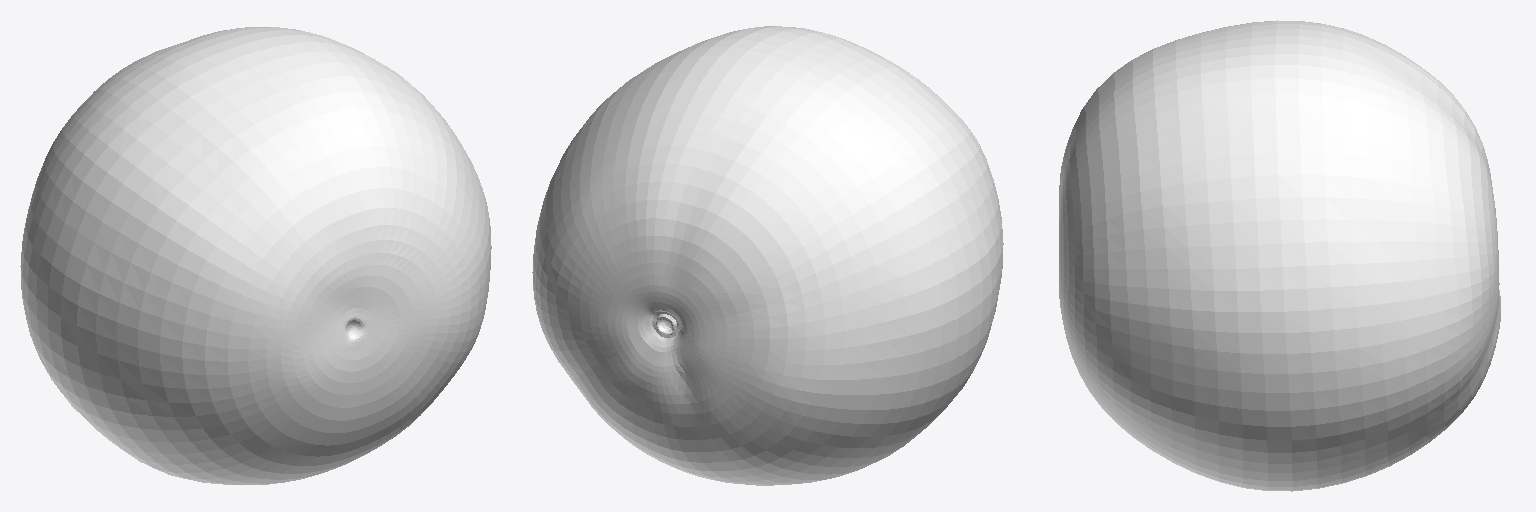
The robot description file, URDF, robot "model.urdf":
<robot name="model.urdf">
  <link name="baseLink">
    <contact>
      <friction_anchor/>
      <lateral_friction value="0.308"/>
      <spinning_friction value="0.001"/>
      <rolling_friction value="0.001"/>
      <contact_cfm value="0.0"/>
      <contact_erp value="1.0"/>
    </contact>
    <inertial>
       <origin rpy="0 0 0" xyz="0.0 0.0 0.0"/>
       <mass value=".0069"/>
       <inertia ixx="1e-3" ixy="0" ixz="0" iyy="1e-3" iyz="0" izz="1e-3"/>
    </inertial>
    <visual>
      <geometry>
        <mesh filename="orange.obj" scale="1 1 1"/>
      </geometry>
      <material name="white">
        <color rgba="1 1 1 1"/>
      </material>
    </visual>
    <collision>
      <geometry>
        <mesh filename="orange.obj" scale="1 1 1"/>
      </geometry>
    </collision>
  </link>
</robot>

--- Render facts (derived) ---
The picture shows the robot from 3 angles, left to right: view 1: azimuth 30°, elevation 25°; view 2: azimuth 150°, elevation 25°; view 3: azimuth 270°, elevation 25°; orthographic projection.
Model model.urdf with 1 links and 0 joints (none), rooted at baseLink, posed all joints at 0.
Links seen in each view (by area): view 1: baseLink; view 2: baseLink; view 3: baseLink.
Link boxes in pixels (x1,y1,x2,y2): baseLink: (20,27,491,484); baseLink: (532,26,1003,485); baseLink: (1059,20,1500,491).
Size in the robot's own frame: 0.0804 by 0.0724 by 0.077 metres.
Meshes: 1 distinct files referenced, 1 mesh visuals loaded (1 OBJ).